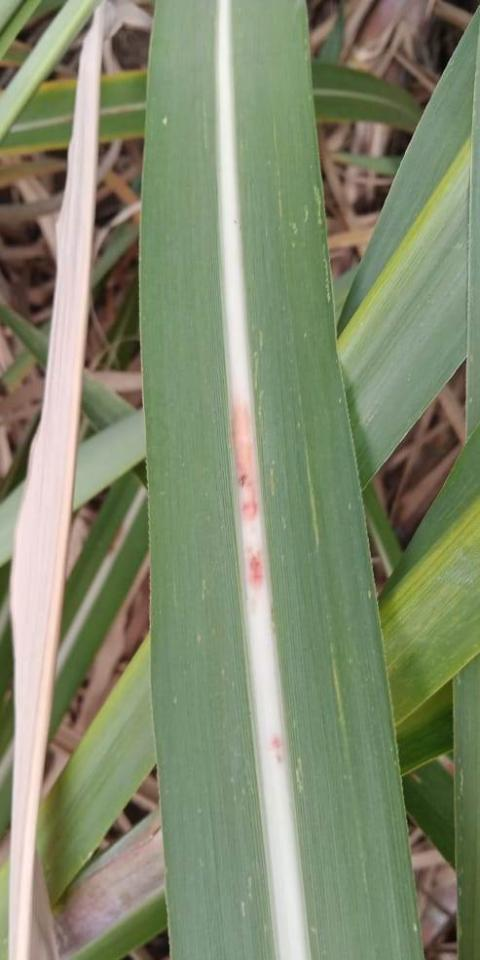RedRot: (229, 401, 260, 522), (242, 545, 267, 589), (269, 732, 285, 770)
